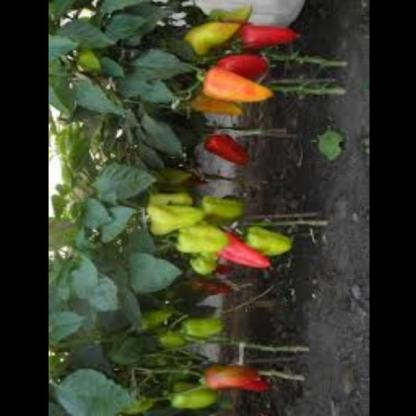bell pepper: (224, 16, 306, 57), (158, 312, 222, 356), (177, 18, 242, 61), (195, 72, 270, 106), (168, 220, 233, 259), (209, 237, 273, 273), (201, 364, 266, 394), (160, 377, 222, 408), (174, 95, 247, 121), (144, 204, 199, 238), (244, 228, 298, 262), (198, 132, 249, 168), (212, 54, 266, 86), (194, 193, 240, 227), (207, 1, 256, 26), (142, 186, 191, 209), (186, 246, 221, 278)
